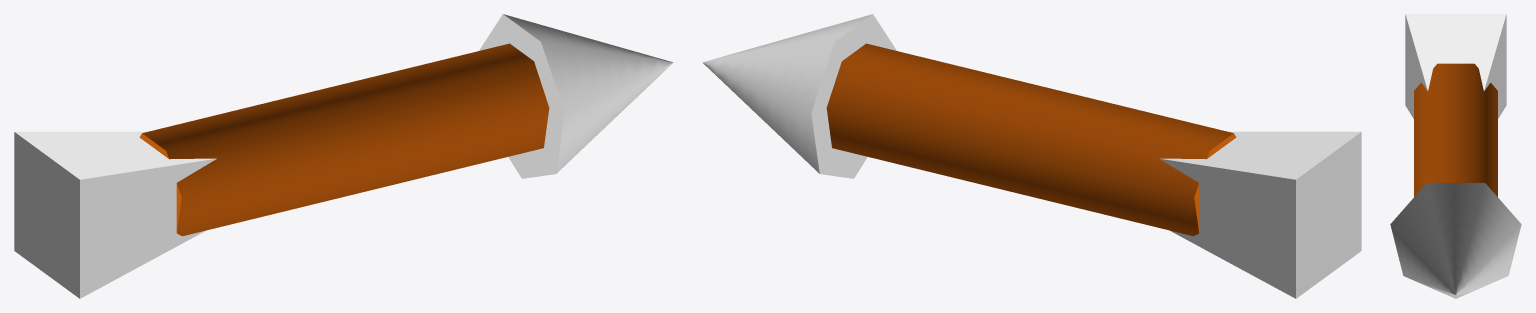
File: Arrow.obj
3 renders of one model, left to right at view 1: azimuth 30°, elevation 25°; view 2: azimuth 150°, elevation 25°; view 3: azimuth 270°, elevation 25°, orthographic. The views are drawn at different scales.
Parts seen in each view (by area): view 1: Cylinder, Pyramid, Cone; view 2: Cylinder, Pyramid, Cone; view 3: Cone, Cylinder, Pyramid.
Part boxes in pixels (x1,y1,x2,y2): Cylinder: [139, 43, 549, 236]; Pyramid: [14, 131, 216, 298]; Cone: [479, 14, 673, 178]; Cylinder: [826, 43, 1236, 236]; Pyramid: [1159, 131, 1361, 298]; Cone: [702, 14, 896, 178]; Cone: [1390, 183, 1521, 298]; Cylinder: [1414, 63, 1497, 196]; Pyramid: [1405, 14, 1506, 118].
Size of the model in its own units: 3.3 by 0.7604 by 0.7799.
3 materials, 3 textured.
